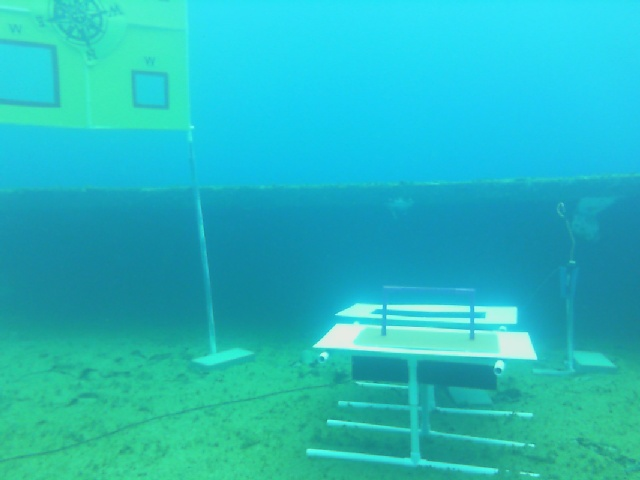bin_cover: (296, 272, 544, 477)
torpedo_hole: (131, 73, 171, 108)
